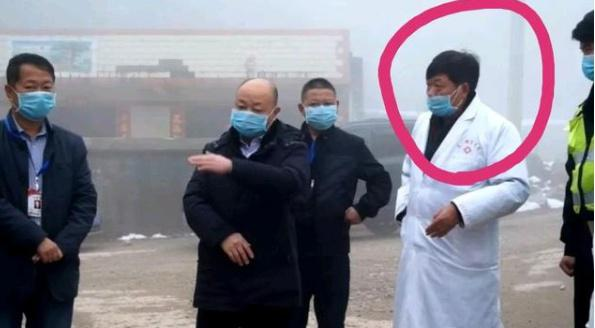OK: (13, 69, 55, 120), (233, 92, 274, 137), (304, 90, 337, 130), (578, 43, 594, 81)
WRONG: (427, 79, 461, 118)
